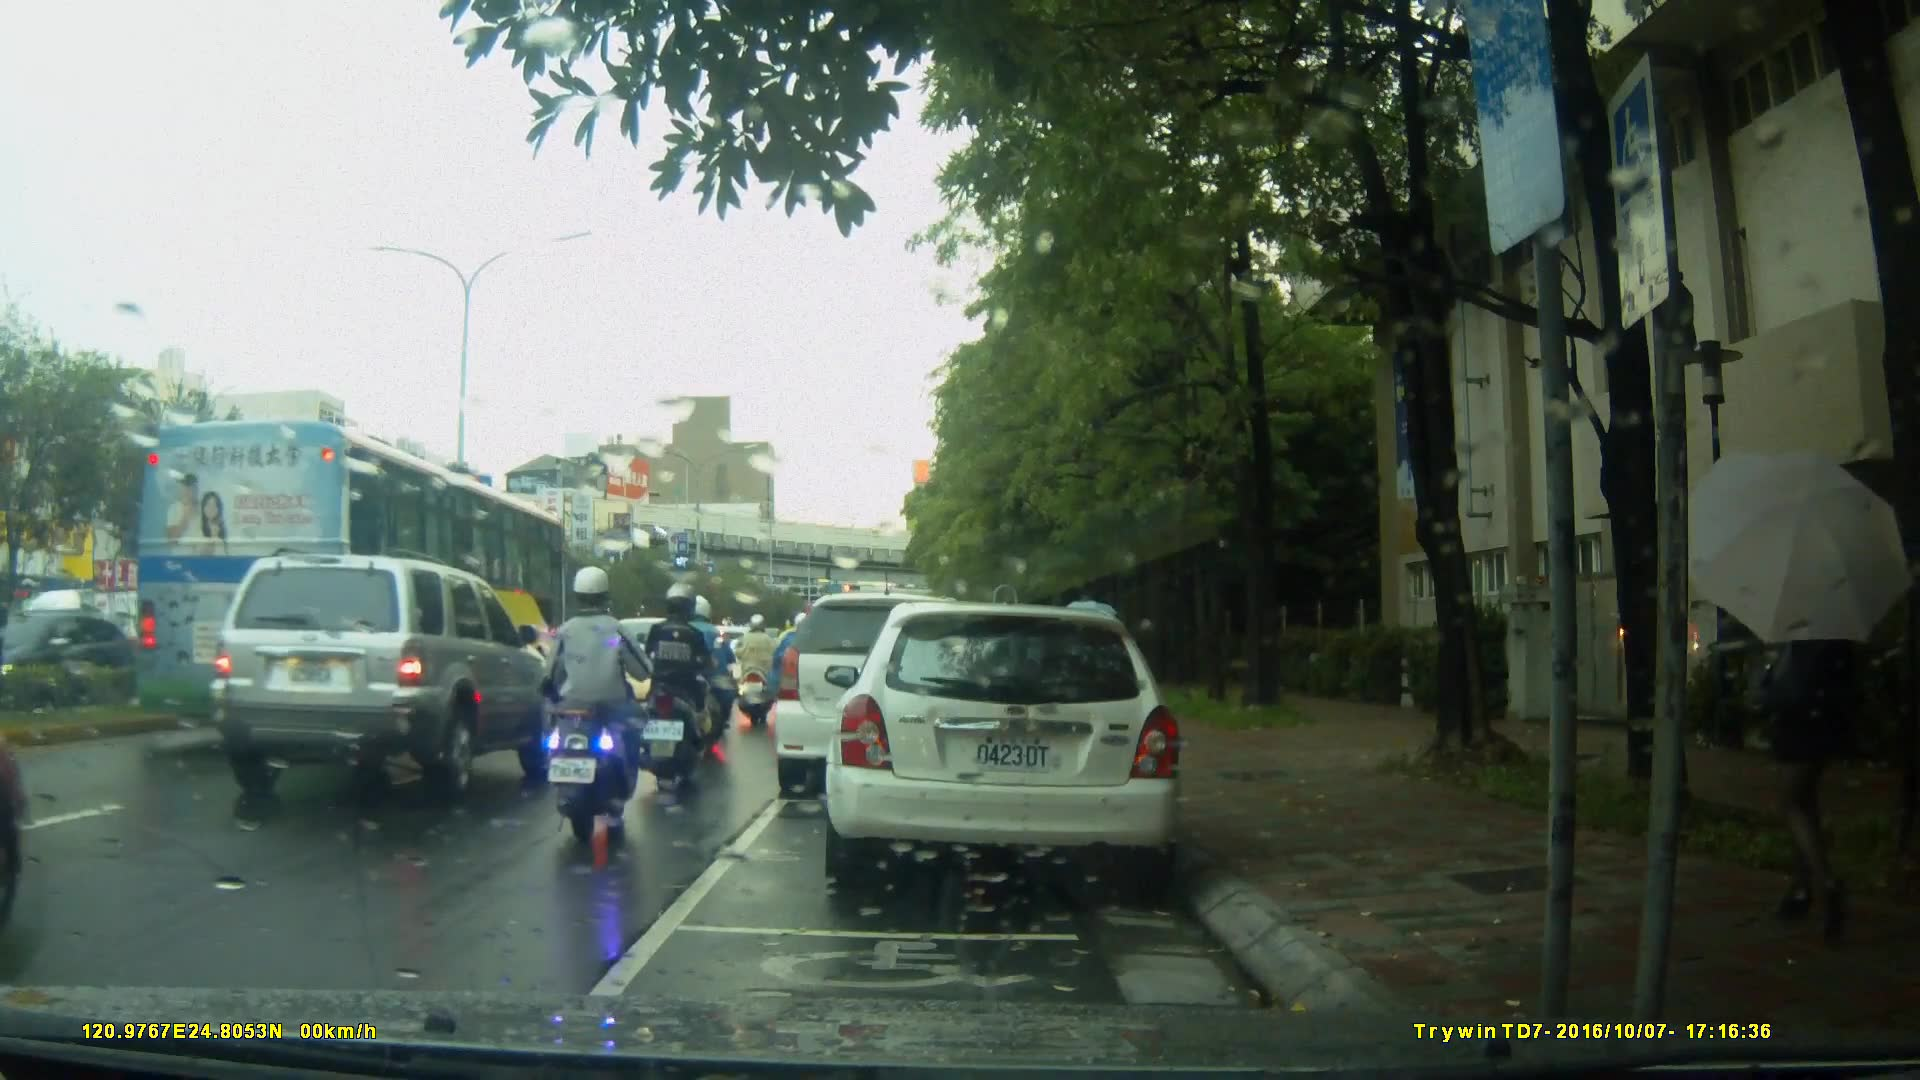pedestrian: (1735, 515, 1873, 932)
rider: (543, 564, 647, 834), (636, 580, 717, 800), (677, 594, 746, 747), (741, 610, 785, 732)
vehicle: (127, 416, 572, 742), (835, 594, 1194, 898), (205, 551, 561, 802), (776, 590, 1026, 784), (1, 611, 158, 715)
